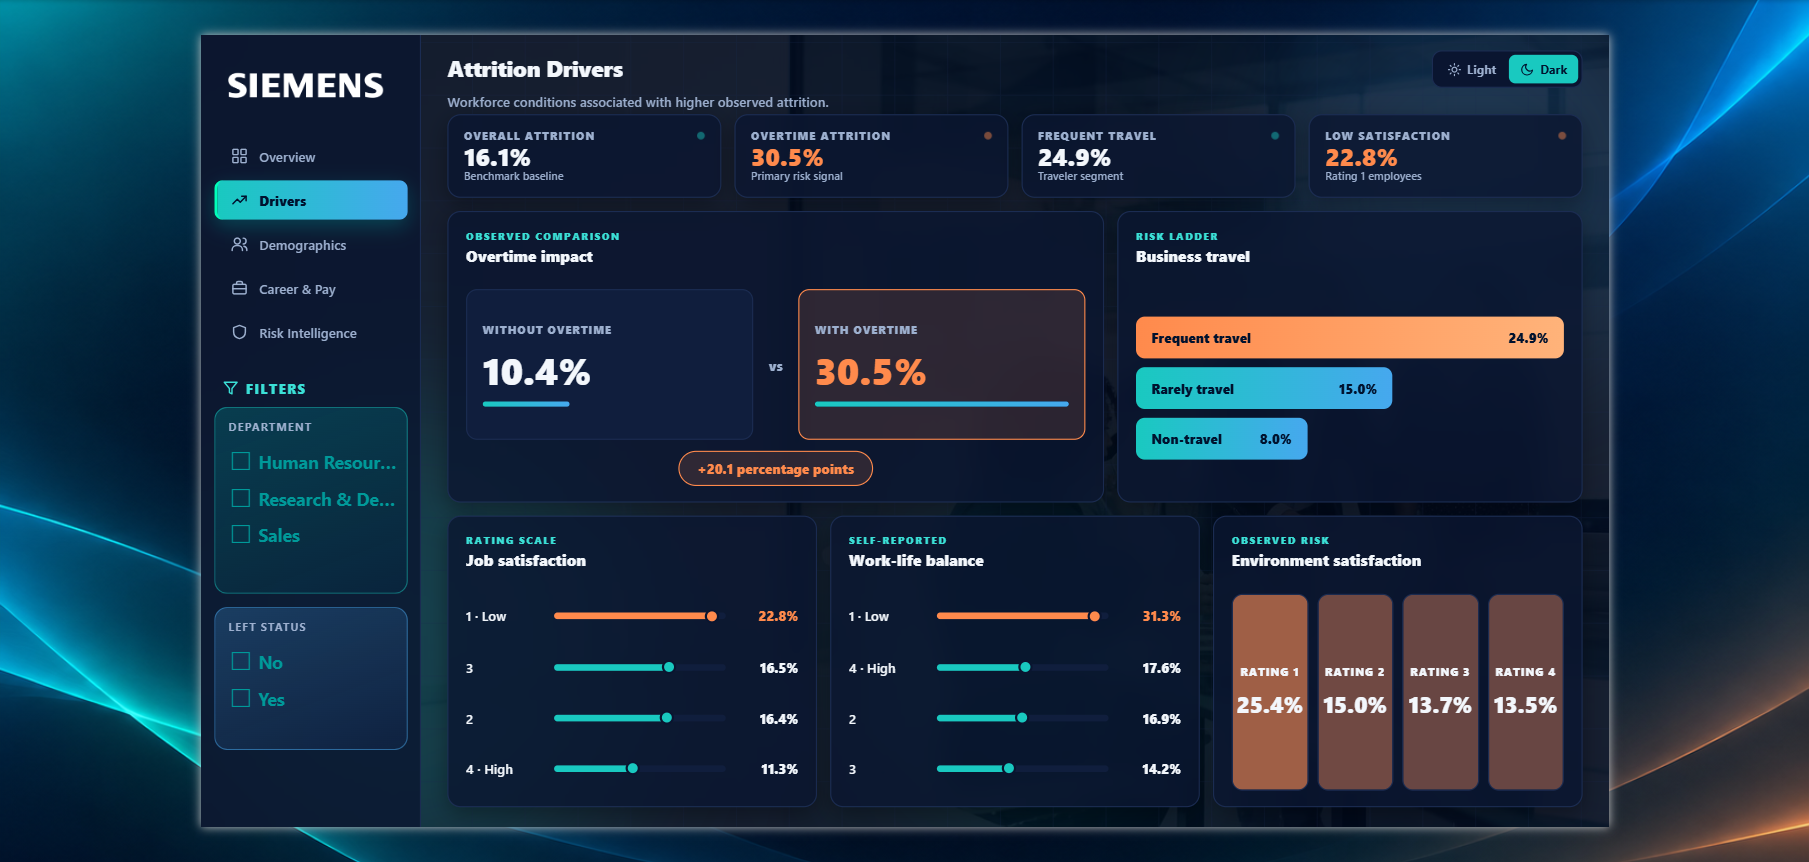

Layout of this report page (visuals, bound fields, positions):
{"tool":"powerbi","page":{"name":"Drivers Page","canvas":[1280,720],"ordinal":2},"visuals":[{"type":"htmlContent443BE3AD55E043BF878BED274D3A6855","fields":{"content":["HTML Visuals.Drivers_Page"]},"box":[0,0,1280,720],"z":0},{"type":"actionButton","title":"Risk Intelligence","box":[12,252,176,36],"z":1000},{"type":"actionButton","title":"Career & Pay","box":[12,212,176,36],"z":2000},{"type":"actionButton","title":"Demographics","box":[12,172,176,36],"z":3000},{"type":"actionButton","title":"Overview","box":[12,92,176,36],"z":4000},{"type":"slicer","title":"Left Status Slicer","fields":{"Values":["fact_attrition.attrition"]},"box":[20,554,160,84],"z":4001},{"type":"slicer","title":"Department Slicer","fields":{"Values":["dim_department.department"]},"box":[20,372,160,124],"z":4002}]}

Visuals, with their boxes on the page's 1280x720 design canvas (x1, y1, x2, y2). These are canvas units, not pixel positions in the 1809x862 screenshot, which may show the page scaled, cropped or inside an application window:
htmlContent443BE3AD55E043BF878BED274D3A6855 - HTML Visuals.Drivers_Page: <region>0, 0, 1280, 720</region>
"Risk Intelligence" actionButton: <region>12, 252, 188, 288</region>
"Career & Pay" actionButton: <region>12, 212, 188, 248</region>
"Demographics" actionButton: <region>12, 172, 188, 208</region>
"Overview" actionButton: <region>12, 92, 188, 128</region>
"Left Status Slicer" slicer: <region>20, 554, 180, 638</region>
"Department Slicer" slicer: <region>20, 372, 180, 496</region>
